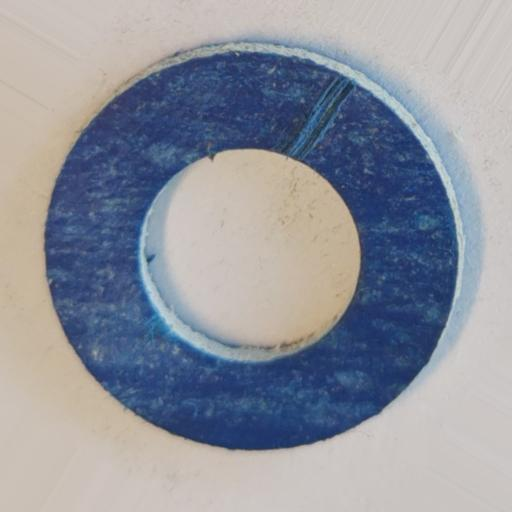defect: (285, 73, 357, 163)
